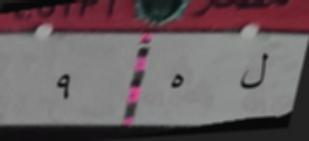9: (50, 72, 77, 108)
haa: (160, 65, 189, 99)
laam: (232, 45, 272, 101)
